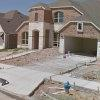Hydrant: (58, 75, 75, 100)
